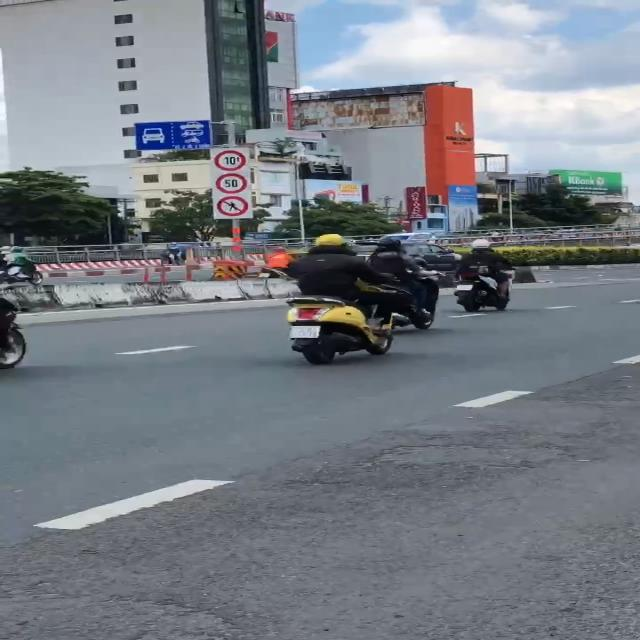Bien bao cam nguoi di bo: (213, 193, 253, 218)
Bien bao toc do toi da cho phep: (213, 172, 249, 194)
